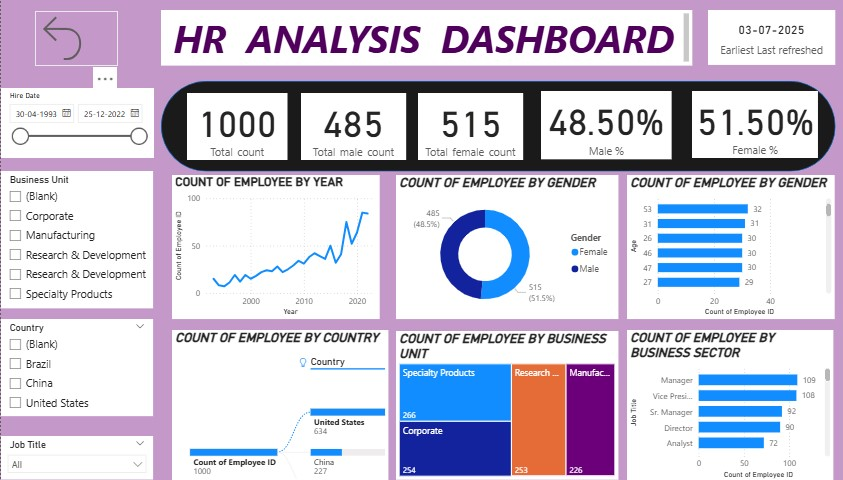

The page's visual inventory and layout, read from the dashboard file:
{"tool":"powerbi","page":{"name":"Page 1","canvas":[1280,720],"ordinal":0},"visuals":[{"type":"shape","box":[238.3,121.7,1006.7,135],"z":0},{"type":"card","fields":{"Values":["Employee Data.Total_male_count"]},"box":[448.3,140,156.7,100],"z":1000},{"type":"card","fields":{"Values":["Employee Data.Total_female_count"]},"box":[621.7,140,156.7,100],"z":2000},{"type":"card","fields":{"Values":["Employee Data.Male %"]},"box":[806.7,136.7,195,101.7],"z":3000},{"type":"lineChart","title":"COUNT OF EMPLOYEE BY YEAR","fields":{"Category":["Employee Data.Hire Date.Variation.Date Hierarchy.Year"],"Y":["CountNonNull(Employee Data.Employee ID)"]},"box":[255,263.3,310,215],"z":4000},{"type":"donutChart","title":"COUNT OF EMPLOYEE BY GENDER","fields":{"Y":["CountNonNull(Employee Data.Employee ID)"],"Category":["Employee Data.Gender"]},"box":[590,263.3,331.7,215],"z":5000},{"type":"clusteredBarChart","title":"COUNT OF EMPLOYEE BY GENDER","fields":{"Y":["CountNonNull(Employee Data.Employee ID)"],"Category":["Employee Data.Age"]},"box":[935,263.3,310,215],"z":6000},{"type":"decompositionTreeVisual","title":"COUNT OF EMPLOYEE BY COUNTRY","fields":{"Analyze":["CountNonNull(Employee Data.Employee ID)"],"ExplainBy":["Employee Data.Country"]},"box":[255,493.3,323.3,226.7],"z":7000},{"type":"treemap","title":"COUNT OF EMPLOYEE BY BUSINESS UNIT","fields":{"Values":["CountNonNull(Employee Data.Employee ID)"],"Group":["Employee Data.Business Unit"]},"box":[590,495,331.7,221.7],"z":8000},{"type":"clusteredBarChart","title":"COUNT OF EMPLOYEE  BY BUSINESS SECTOR","fields":{"Y":["CountNonNull(Employee Data.Employee ID)"],"Category":["Employee Data.Job Title"]},"box":[935,493.3,308.3,226.7],"z":9000},{"type":"slicer","fields":{"Values":["Employee Data.Business Unit"]},"box":[0,256.7,226.7,205],"z":10000},{"type":"slicer","fields":{"Values":["Employee Data.Country"]},"box":[0,478.3,226.7,145],"z":11000},{"type":"slicer","fields":{"Values":["Employee Data.Job Title"]},"box":[0,651.7,226.7,65],"z":12000},{"type":"card","fields":{"Values":["Employee Data.Total_count"]},"box":[278.3,140,150,100],"z":13000},{"type":"card","fields":{"Values":["Employee Data.Female %"]},"box":[1031.7,136.7,188.3,100],"z":14000},{"type":"card","fields":{"Values":["Min(Query1.Last refreshed)"]},"box":[1055,16.7,190,81.7],"z":15000},{"type":"slicer","fields":{"Values":["Employee Data.Hire Date"]},"box":[0,133.3,226.7,103.3],"z":16000},{"type":"textbox","box":[238.3,16.7,793.3,83.3],"z":17000},{"type":"actionButton","box":[51.4,18.6,122.9,81.4],"z":18000}]}

Visuals, with their boxes in screenshot pixels (x1, y1, x2, y2):
shape: <region>156, 80, 834, 171</region>
card - Employee Data.Total_male_count: <region>297, 92, 403, 159</region>
card - Employee Data.Total_female_count: <region>414, 92, 520, 159</region>
card - Employee Data.Male %: <region>539, 90, 670, 158</region>
"COUNT OF EMPLOYEE BY YEAR" lineChart: <region>167, 175, 376, 320</region>
"COUNT OF EMPLOYEE BY GENDER" donutChart: <region>393, 175, 616, 320</region>
"COUNT OF EMPLOYEE BY GENDER" clusteredBarChart: <region>625, 175, 834, 320</region>
"COUNT OF EMPLOYEE BY COUNTRY" decompositionTreeVisual: <region>167, 330, 385, 479</region>
"COUNT OF EMPLOYEE BY BUSINESS UNIT" treemap: <region>393, 331, 616, 479</region>
"COUNT OF EMPLOYEE  BY BUSINESS SECTOR" clusteredBarChart: <region>625, 330, 833, 479</region>
slicer - Employee Data.Business Unit: <region>0, 171, 148, 309</region>
slicer - Employee Data.Country: <region>0, 320, 148, 418</region>
slicer - Employee Data.Job Title: <region>0, 437, 148, 479</region>
card - Employee Data.Total_count: <region>183, 92, 284, 159</region>
card - Employee Data.Female %: <region>690, 90, 817, 157</region>
card - Min(Query1.Last refreshed): <region>706, 9, 834, 64</region>
slicer - Employee Data.Hire Date: <region>0, 88, 148, 157</region>
textbox: <region>156, 9, 690, 65</region>
actionButton: <region>30, 10, 113, 65</region>
